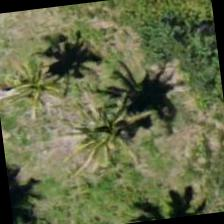Kelapa_Sawit: (52, 92, 152, 192), (0, 36, 87, 137)
